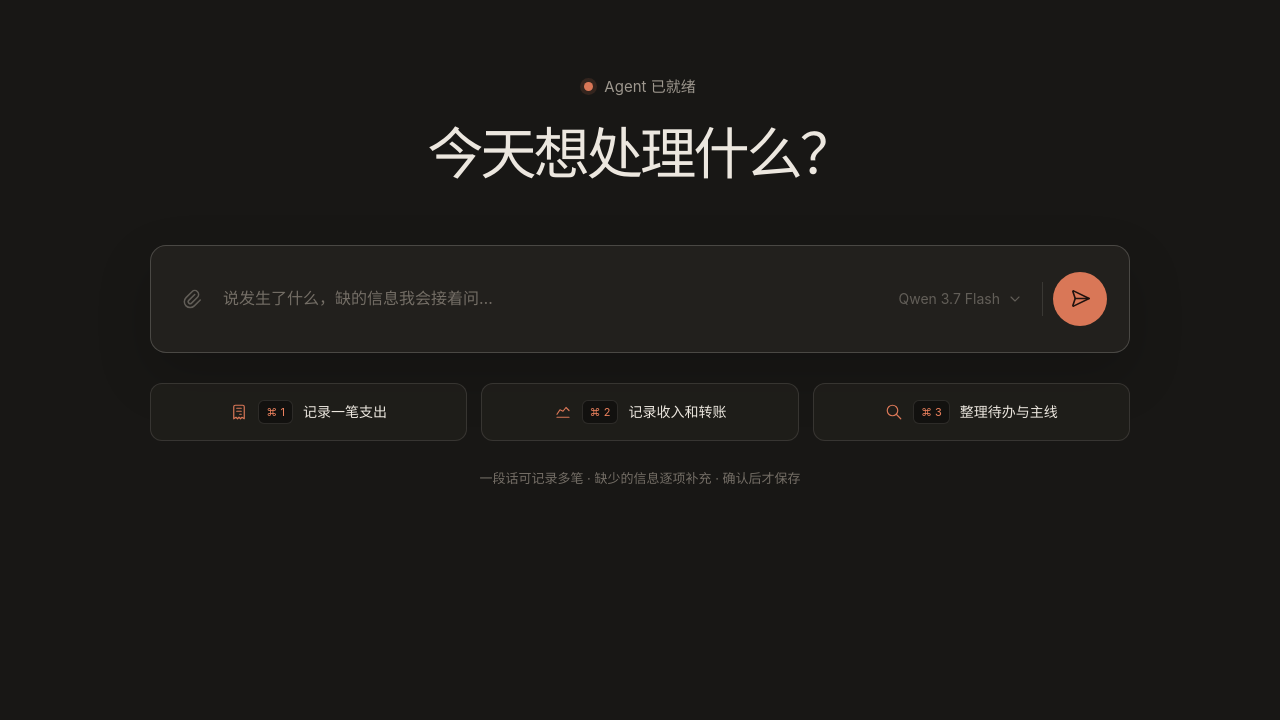
it: preserves previews on ordinary action failures without inventing data
This screenshot has width=1280, height=720.
In the text box named "给 Agent 发消息": (550,299) [221,284,880,314], type "午饭花了20"
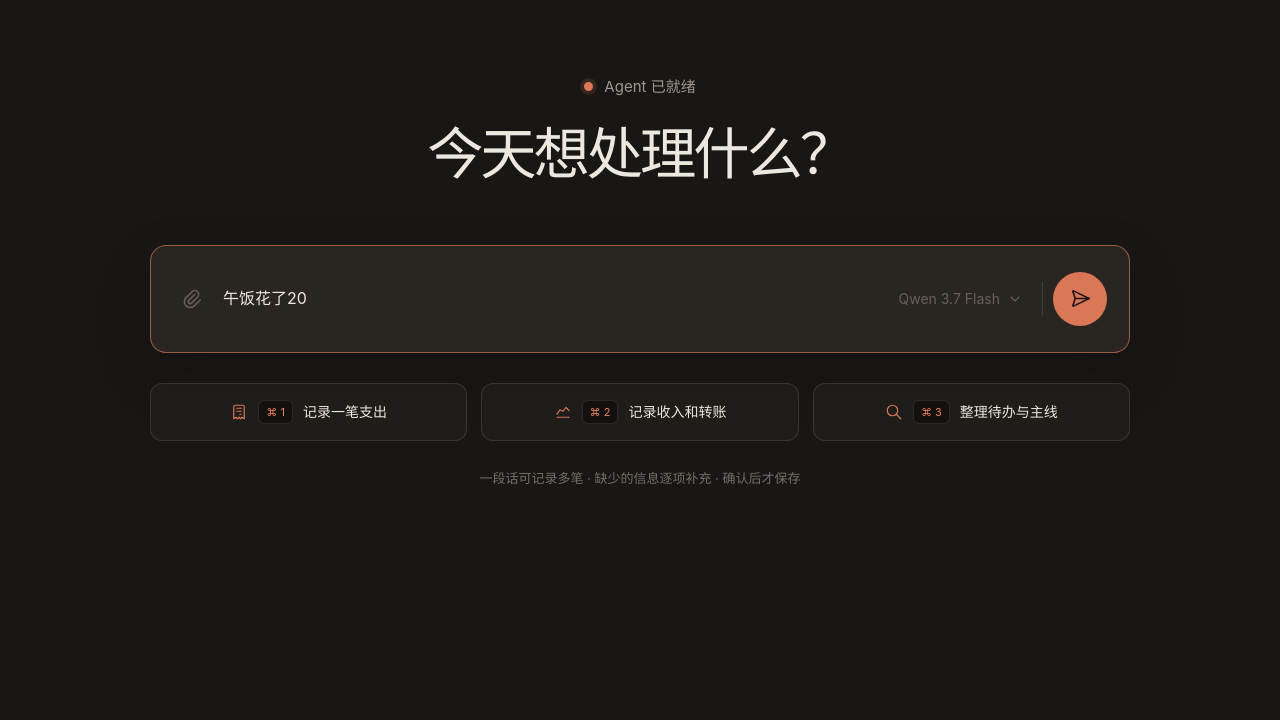
Click the button named "发送消息": (1080,299) [1053,272,1107,326]
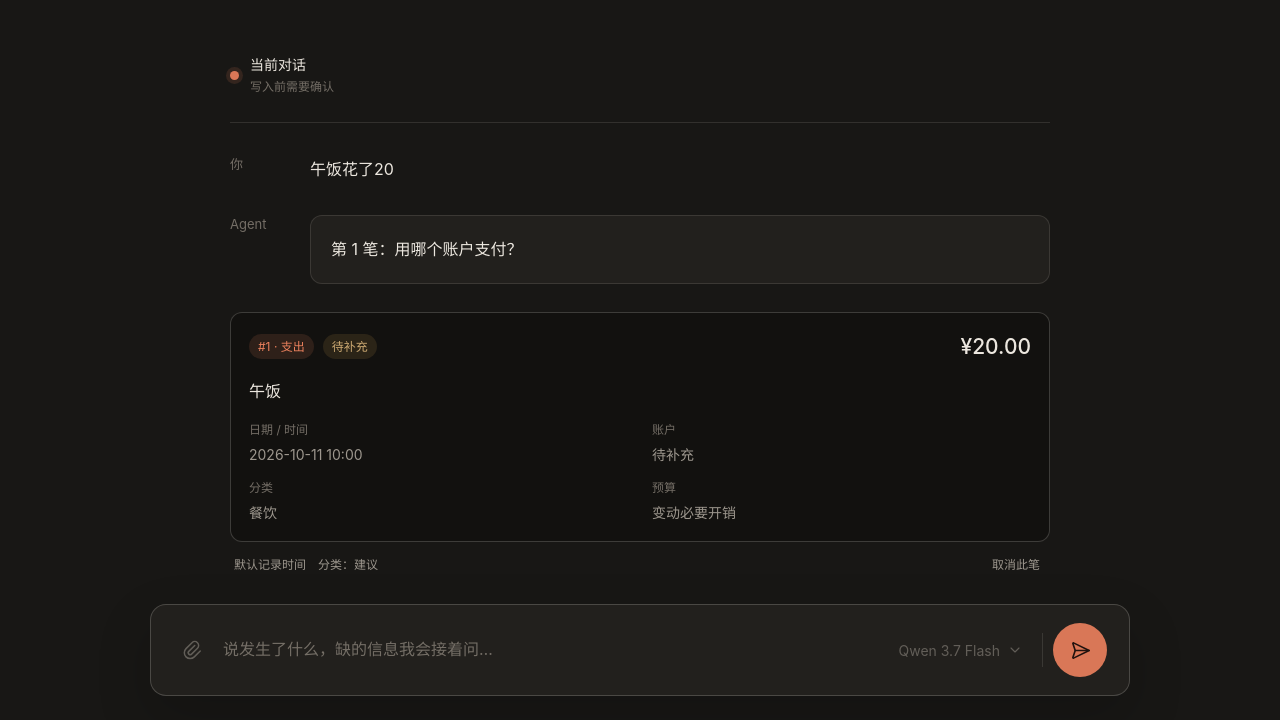
In the text box named "给 Agent 发消息": (550,650) [221,635,880,665], type "补充"
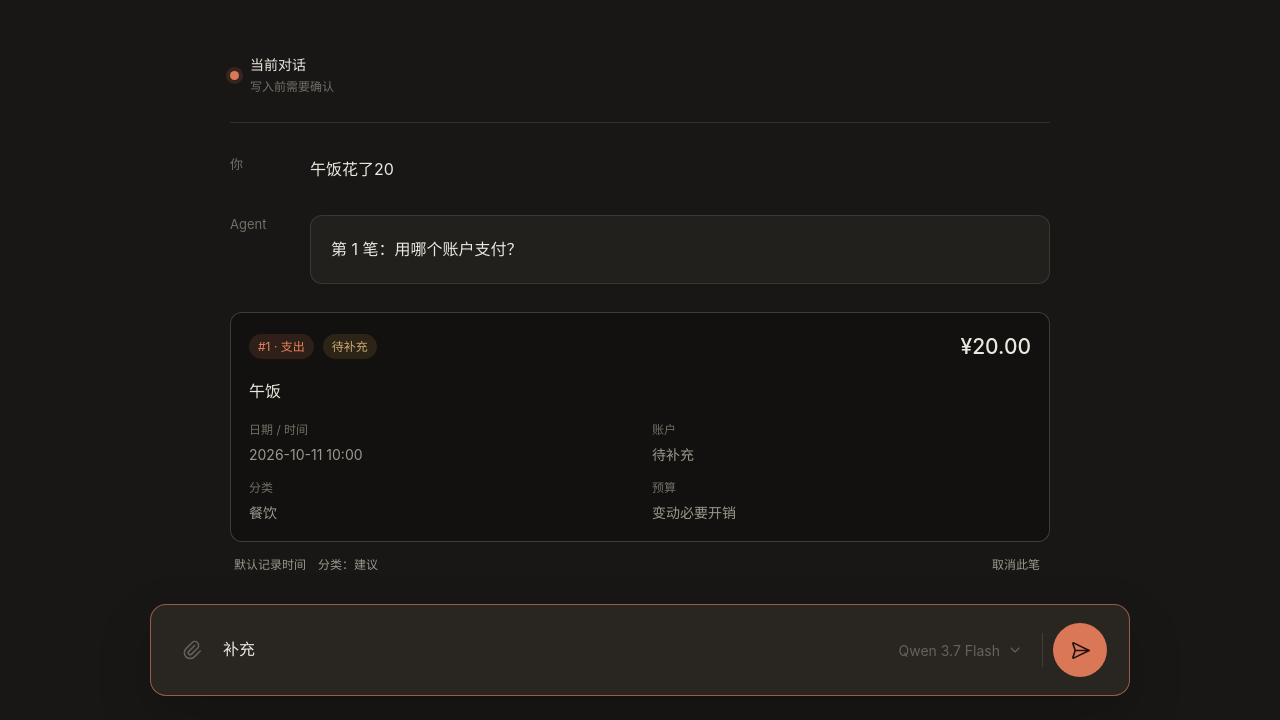
Click the button named "发送消息": (1080,650) [1053,623,1107,677]
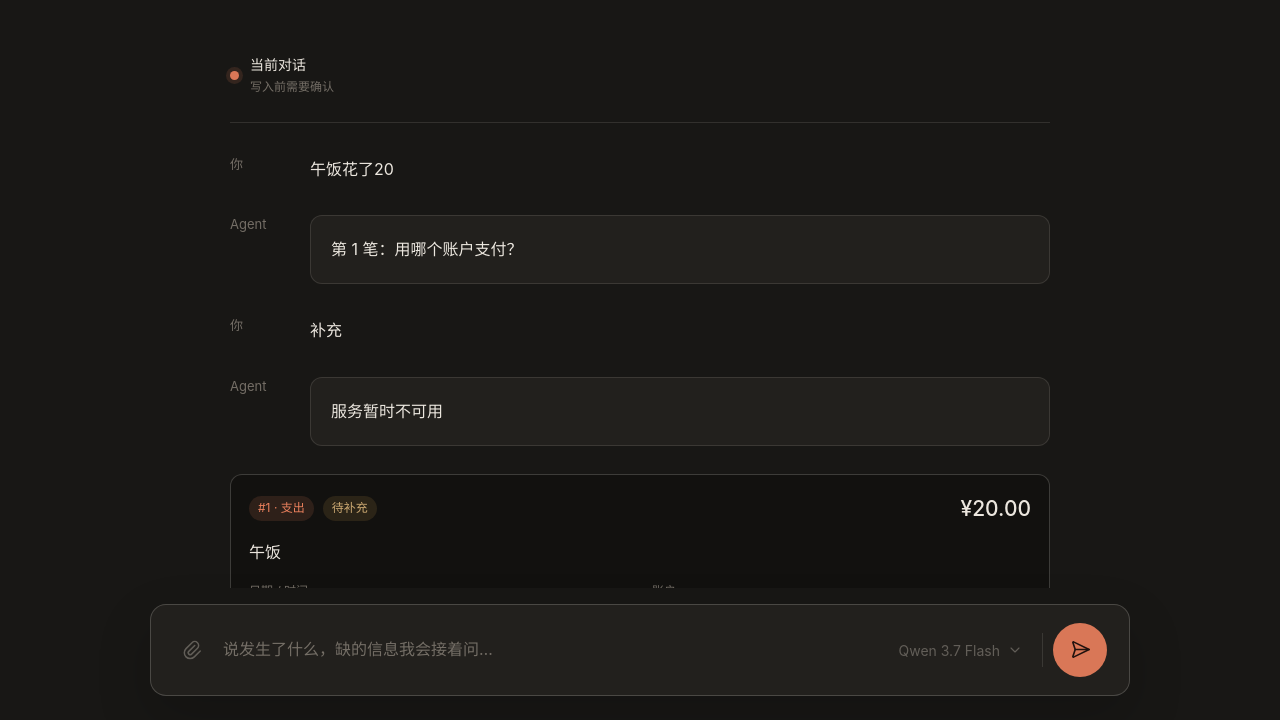
Check: the number of elements named "交易预览" is 1, box [230,474,1050,703]
Check: the message reads "服务暂时不可用", box [331,401,443,421]
